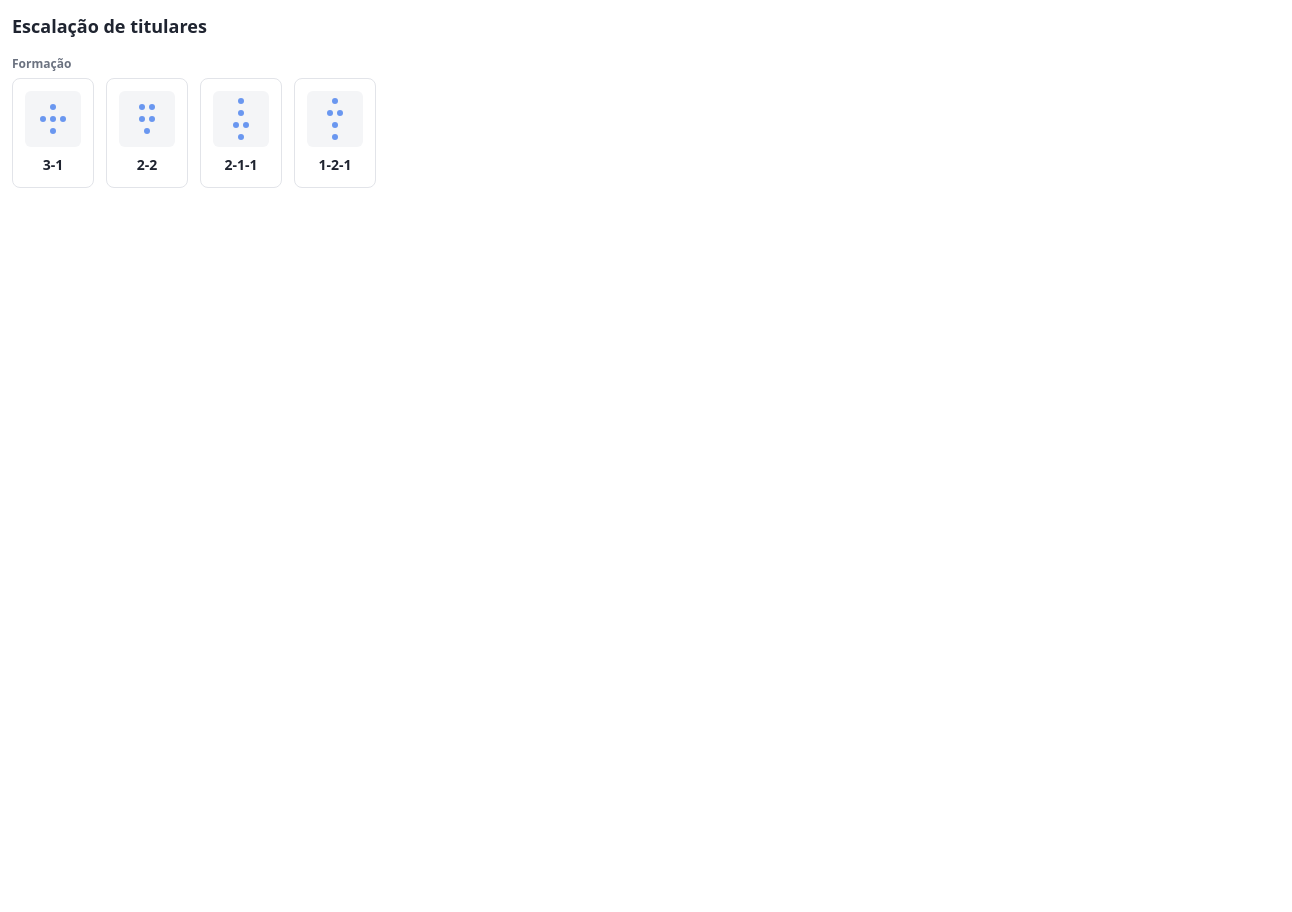
Test: ClubLineup › permite escalar jogador MAL_CONDICIONADO e mostra o aviso
Click the radio button labelled "2-1-1".
click(241, 133)  # box [200,78,282,188]
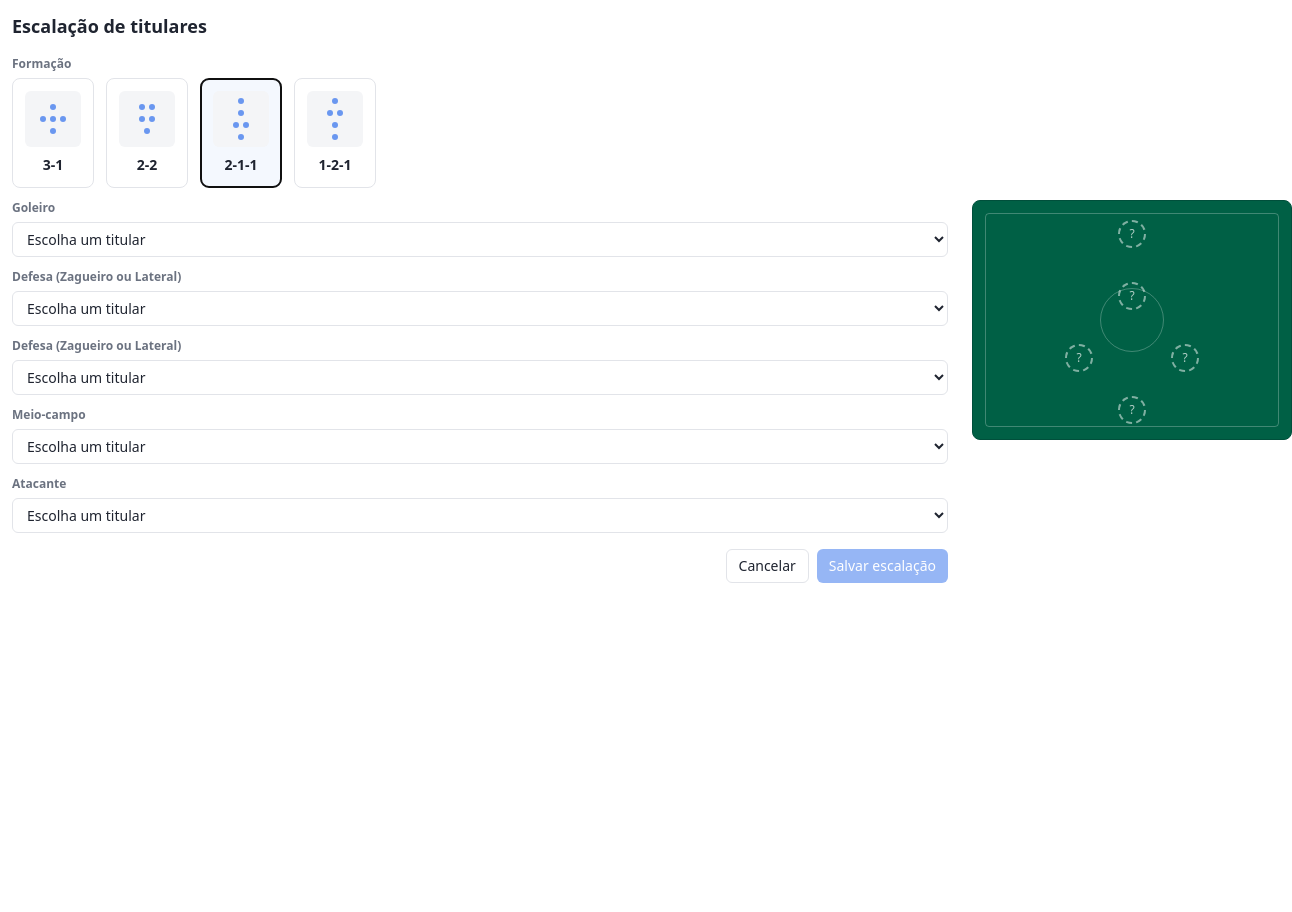
Check: the dropdown labelled "Atacante" is shown
Select "Atacante B" in the dropdown labelled "Atacante" at (480, 516), box [12,498,948,533]
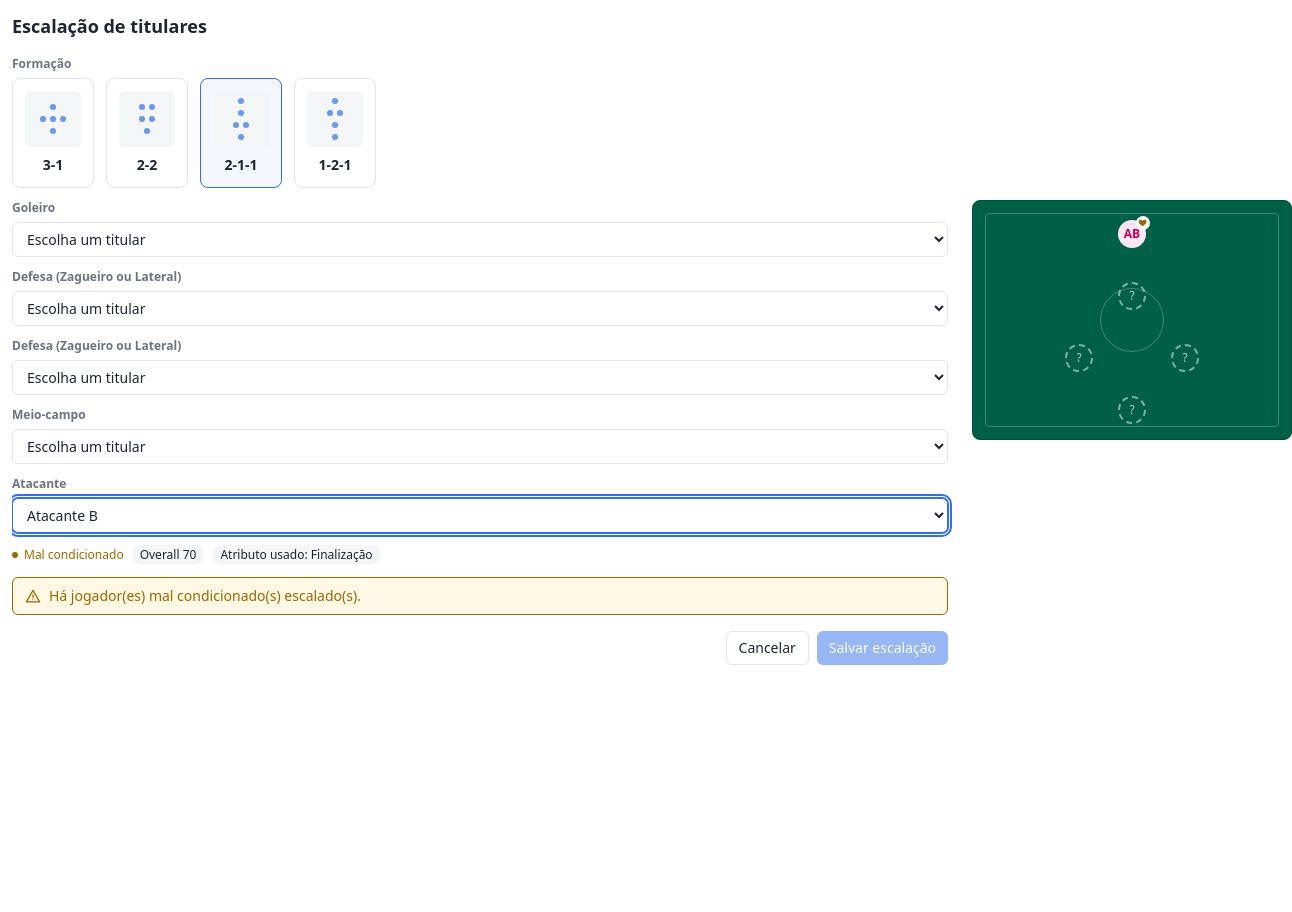
Check: the text "Há jogador(es) mal condicionado(s) escalado(s)." is shown, box [12,577,948,615]
